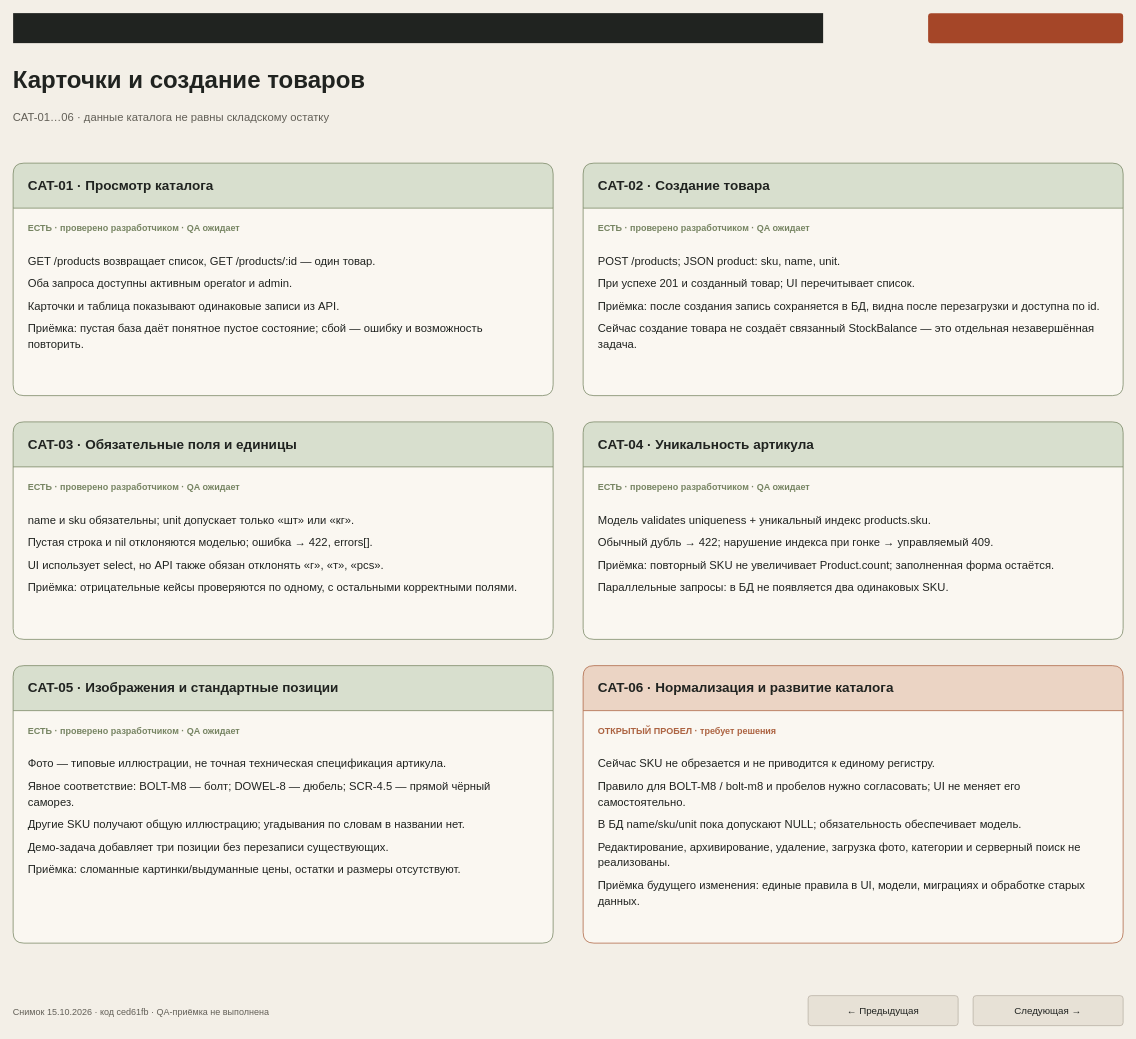
The diagram is 1136 pixels wide and 1039 high, and some of its shapes have lost their labels. Each missing label, with the centre of its shape:
"СЕКЦИЯ / ТЕХНИЧЕСКОЕ ЗАДАНИЕ" goes at pixel 418 28.
"← К дереву" goes at pixel 1025 28.
